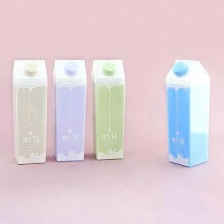carton: (163, 56, 215, 167), (8, 57, 49, 166), (89, 56, 128, 163), (52, 57, 87, 163)
